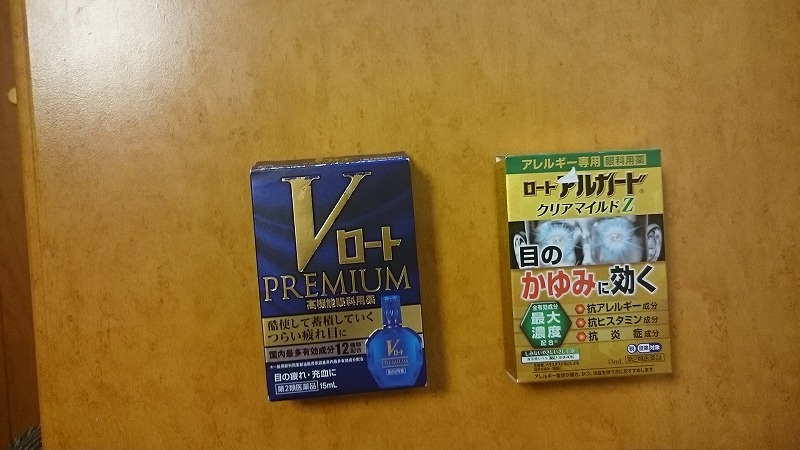C: (493, 143, 678, 385)
D: (248, 146, 435, 405)
